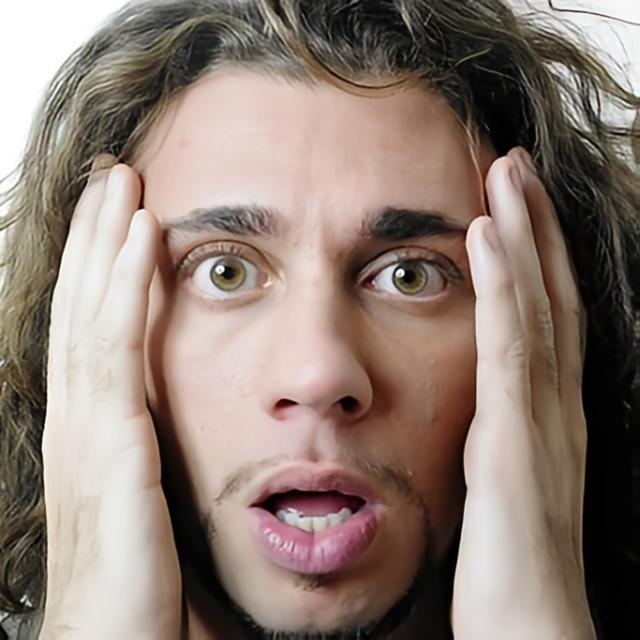fear: (143, 64, 480, 638)
